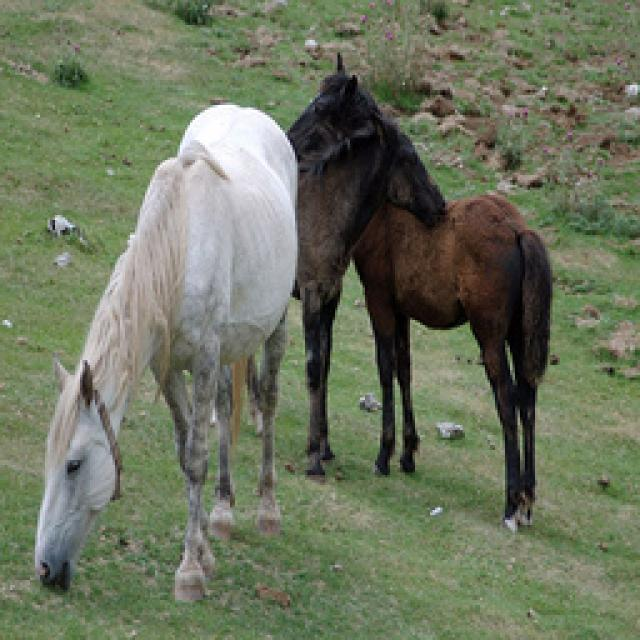not_pig: (29, 95, 301, 608), (282, 50, 552, 532), (228, 50, 448, 478)
